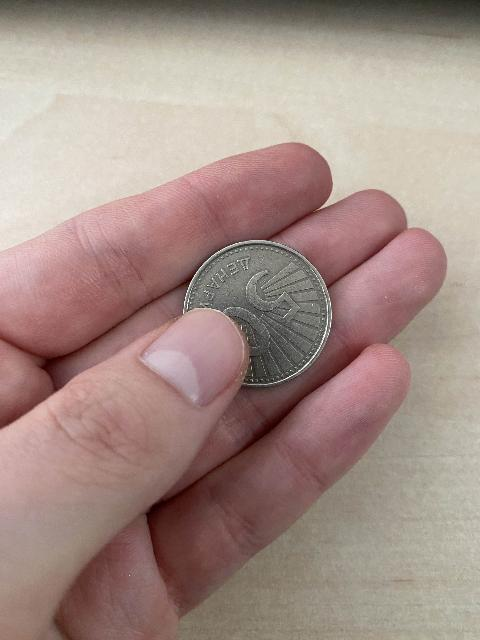50_coin: (189, 237, 339, 389)
